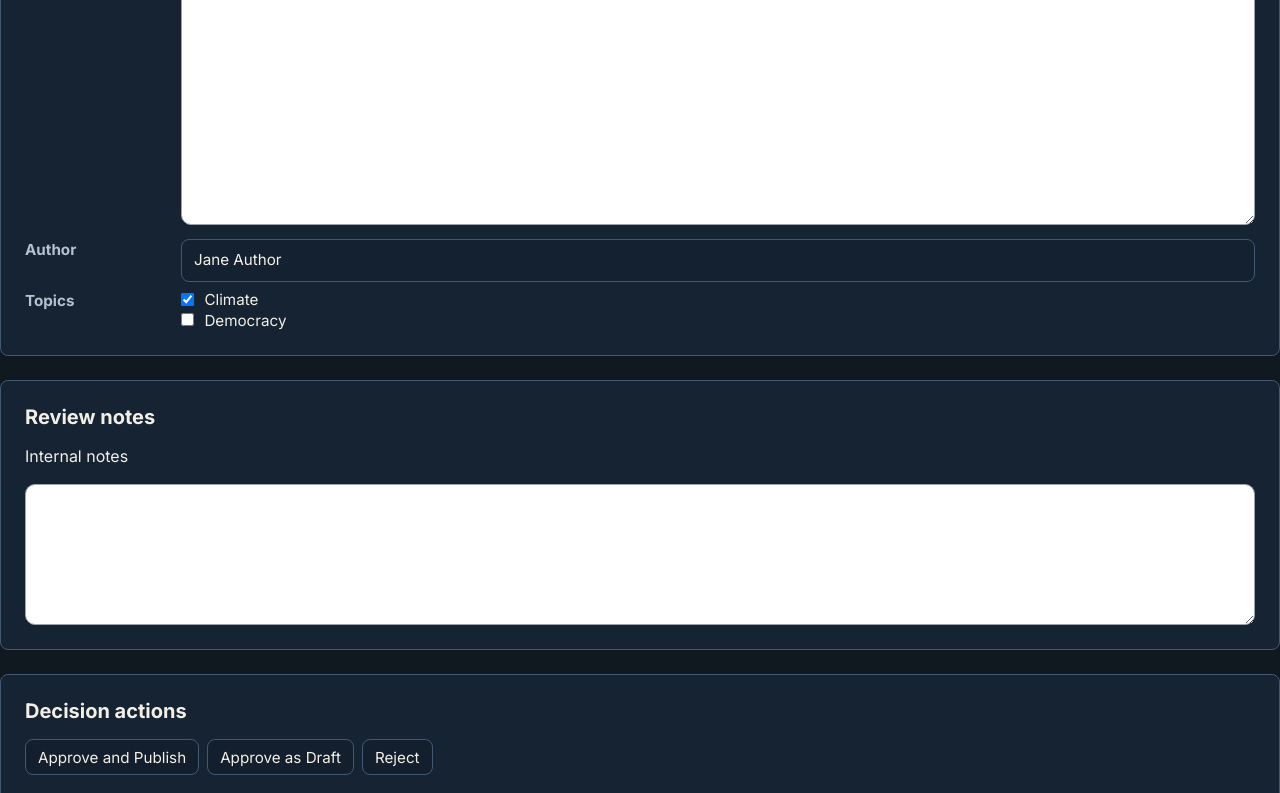
it: SubmissionReviewPageContent › Rejection sends notes and renders a rejected outcome
The image size is (1280, 793).
(page scrolled)
Type "Insufficiently cited." into the text box labelled "Internal notes" at (640, 555), box [25,484,1255,625]
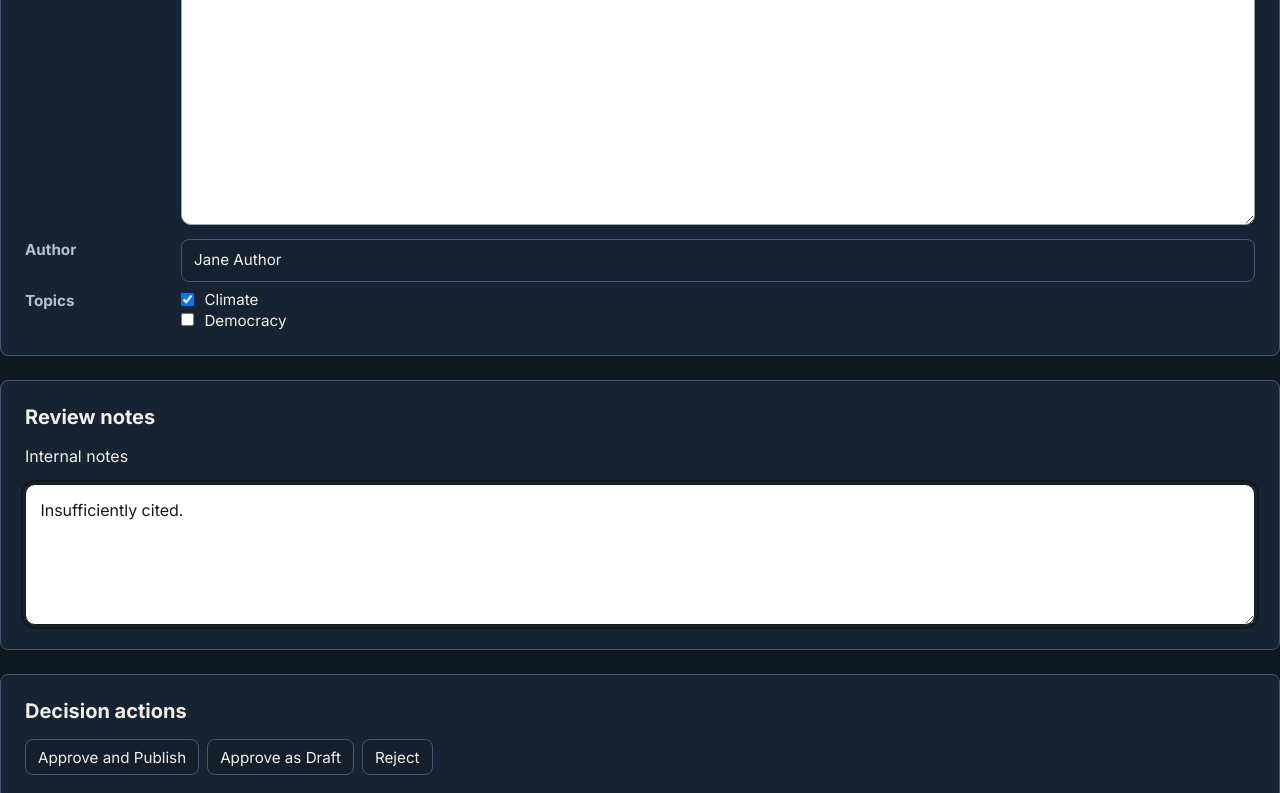
Click the button "Reject" at (397, 758), box [362,740,432,776]
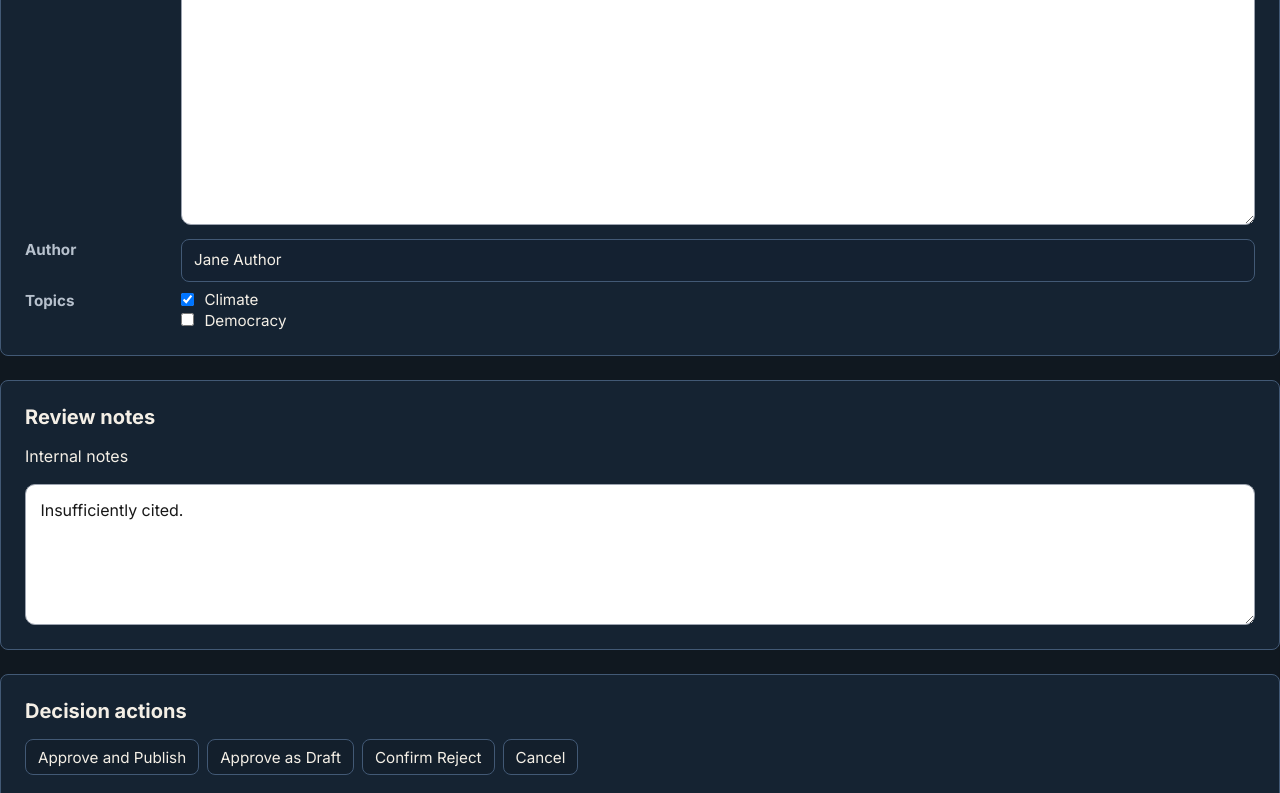
Click the button "Confirm Reject" at (428, 758), box [362,740,494,776]
(page scrolled)
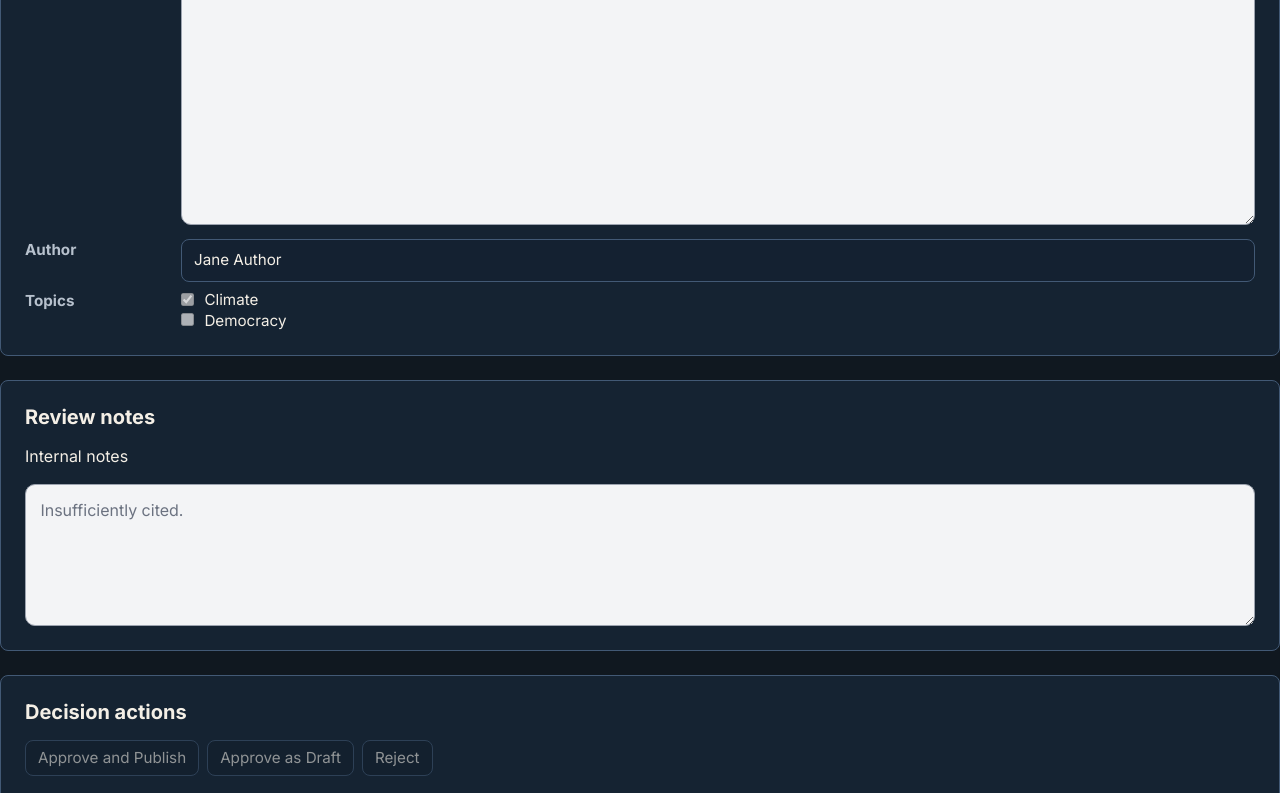
Now the button "Reject" is disabled, box [362,740,432,776]
Now the text box labelled "Internal notes" is disabled, box [25,484,1255,626]
